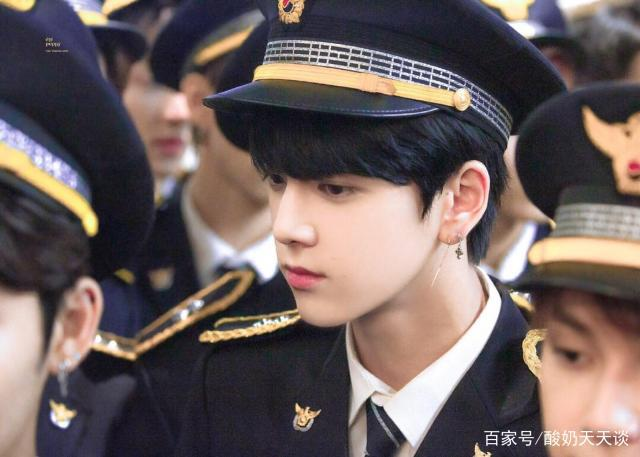person: (224, 36, 491, 368)
